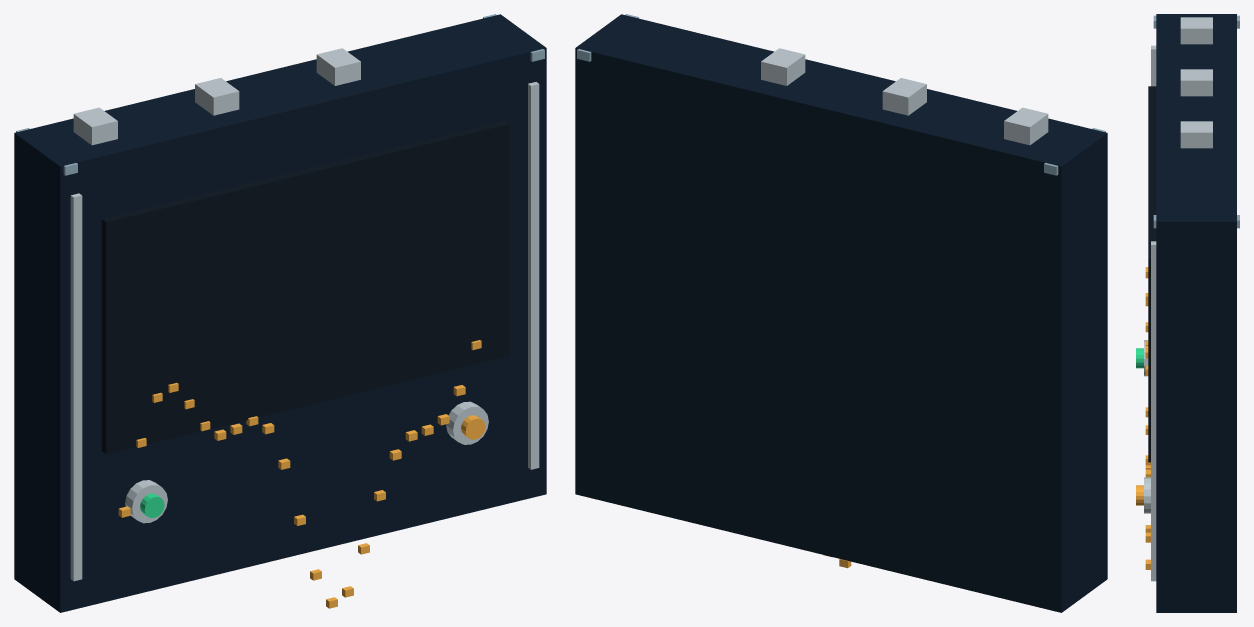
Rendered from 46_L75_CrystalLatticeDamageAnalyzer.fbx.
3 views of the same model, side by side, from view 1: azimuth 30°, elevation 25°; view 2: azimuth 150°, elevation 25°; view 3: azimuth 270°, elevation 25° (orthographic). The views are drawn at different scales.
Visible parts, largest first — view 1: CrystalLatticeDamageAnalyzer; view 2: CrystalLatticeDamageAnalyzer; view 3: CrystalLatticeDamageAnalyzer.
Part boxes in pixels (left/top/right/bottom): CrystalLatticeDamageAnalyzer: left=14, top=14, right=546, bottom=612; CrystalLatticeDamageAnalyzer: left=575, top=14, right=1107, bottom=612; CrystalLatticeDamageAnalyzer: left=1136, top=14, right=1239, bottom=612.
Bounding box in the file's own units: 122 × 125 × 25.75.
